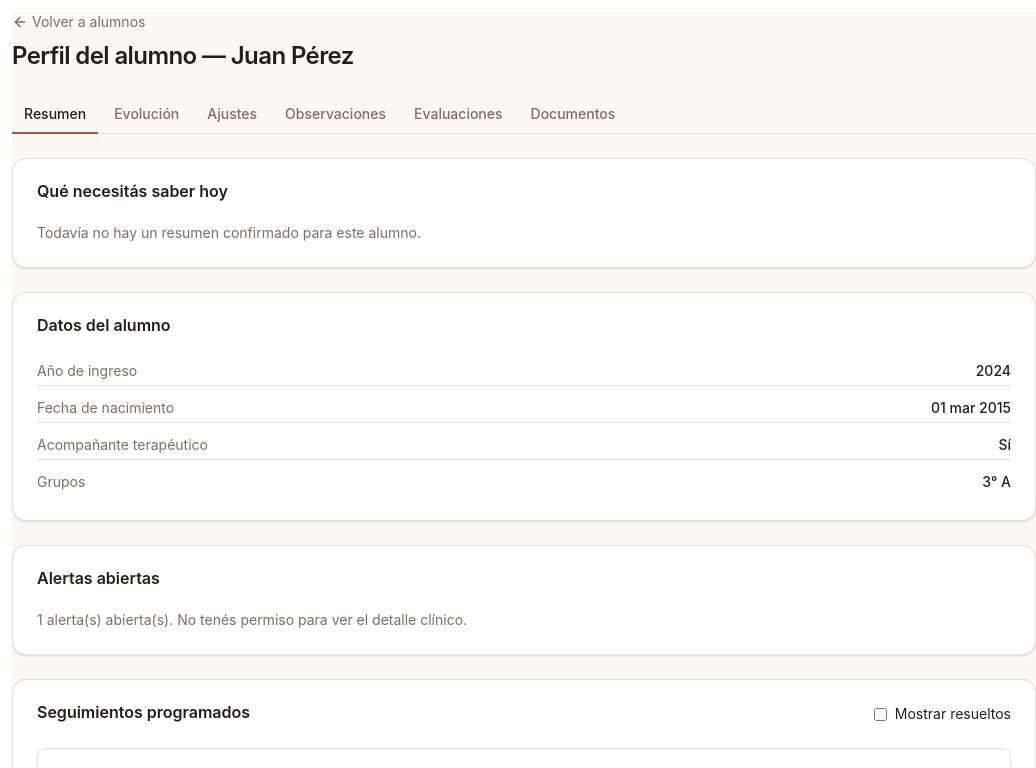
Test: StudentTrackingPage › tells a restricted teacher which cutoff the other subjects' grades are from
The width and height of the screenshot is (1036, 768).
What coordinates should you click on to do the following:
click the tab "Evaluaciones"
I would click on:
 (458, 115)
Its box is [402, 96, 514, 134].
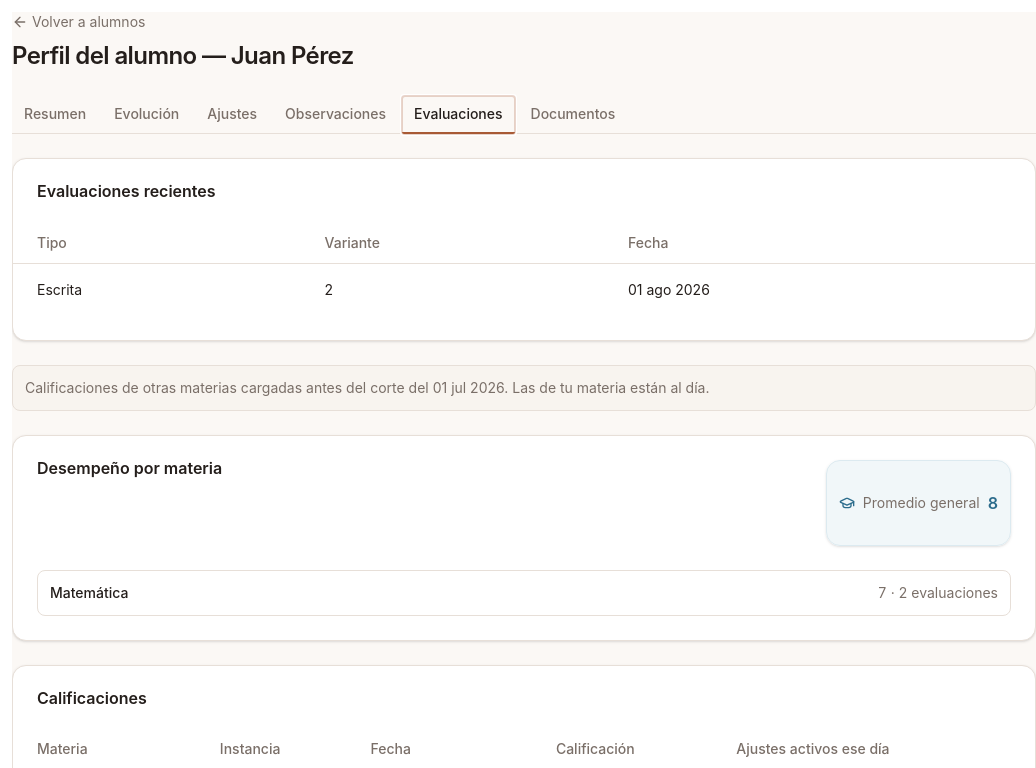
Check: the text "Calificaciones de otras materias cargadas antes del corte del" is shown, box [25, 378, 709, 396]
